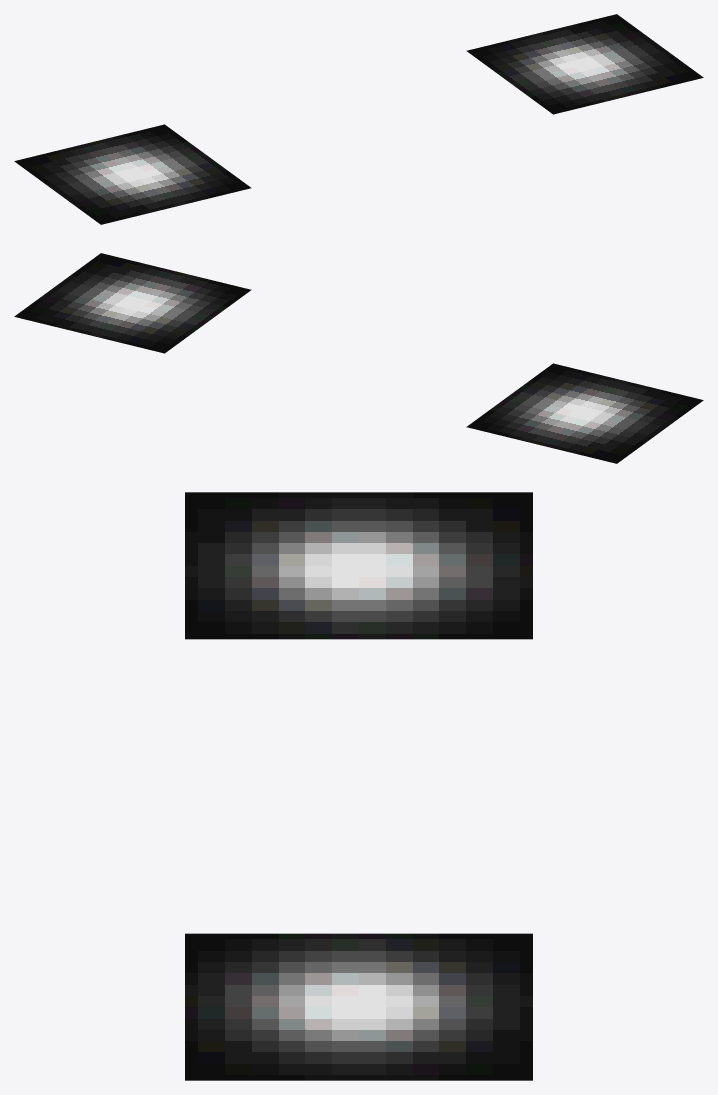
3 views of the same model, one above another, from view 1: azimuth 30°, elevation 25°; view 2: azimuth 150°, elevation 25°; view 3: azimuth 270°, elevation 25° (orthographic). The views are drawn at different scales.
Parts seen in each view (by area): view 1: Hk_obj_062; view 2: Hk_obj_062; view 3: Hk_obj_062.
Boxes of the visible parts, x1,y1,x2,y2 form: Hk_obj_062: [14, 14, 703, 224]; Hk_obj_062: [14, 253, 703, 463]; Hk_obj_062: [185, 492, 532, 1080].
Bounding box in the file's own units: 1 × 0 × 0.25.
Materials: 1 (1 with a texture image).
